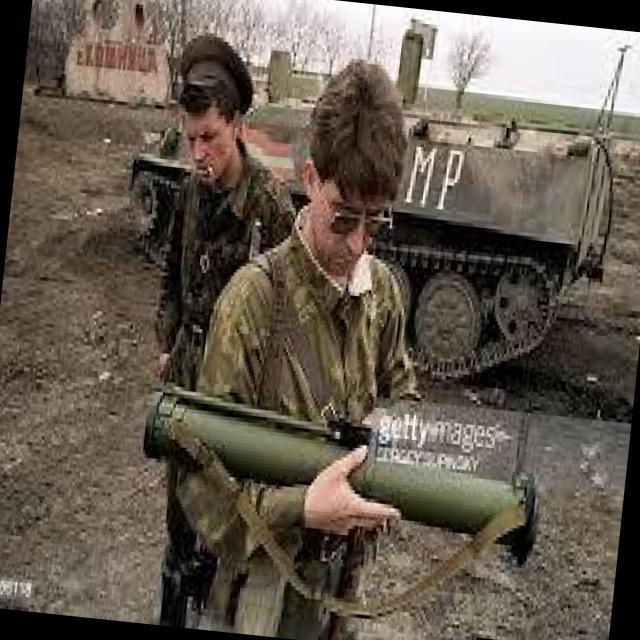rocket: (135, 378, 548, 563)
